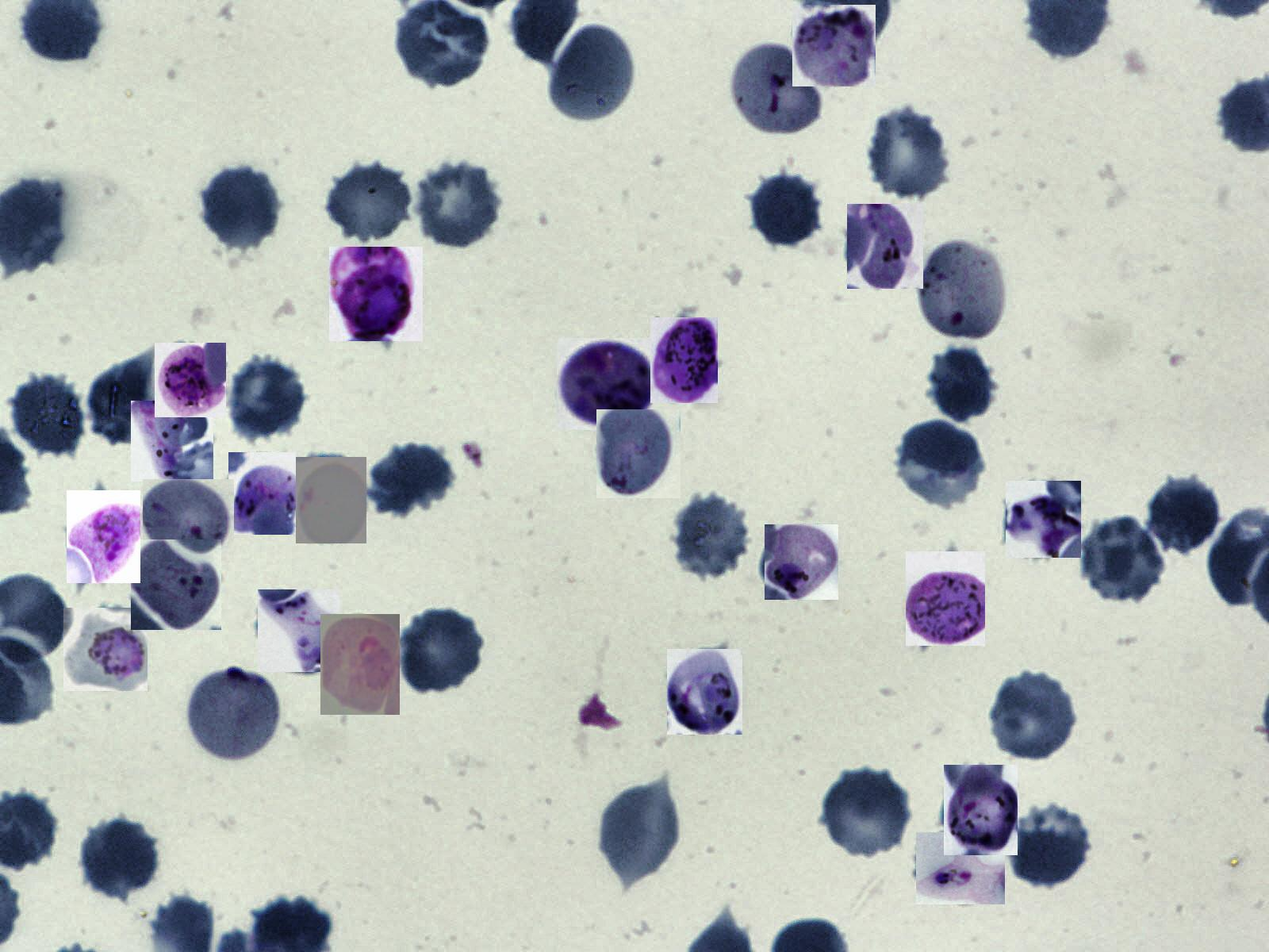Infected: (916, 236, 1006, 344), (185, 664, 284, 762), (733, 40, 826, 138), (329, 247, 423, 341), (557, 338, 653, 430), (131, 539, 221, 630), (320, 614, 400, 715), (596, 409, 681, 498), (144, 479, 235, 562), (906, 551, 985, 646), (63, 608, 148, 691), (258, 589, 340, 672), (67, 490, 140, 583), (792, 6, 876, 86), (944, 765, 1018, 855), (132, 401, 213, 482), (847, 204, 923, 289), (667, 649, 742, 735), (916, 832, 1005, 904), (297, 457, 367, 543), (650, 317, 718, 403), (1006, 481, 1081, 558), (228, 452, 296, 535), (765, 524, 838, 600), (155, 343, 226, 417)
Uninfected: (597, 778, 682, 885), (550, 23, 636, 127), (410, 154, 503, 248), (822, 766, 914, 860), (987, 670, 1079, 762), (395, 1, 490, 89), (865, 104, 951, 199), (895, 419, 985, 508), (325, 158, 412, 246), (398, 607, 486, 693), (1079, 517, 1167, 602), (669, 489, 750, 578), (86, 357, 166, 447), (201, 165, 282, 250), (226, 358, 308, 439), (10, 374, 88, 459), (1013, 802, 1090, 888), (1148, 476, 1224, 558), (370, 440, 453, 515), (82, 819, 159, 896), (753, 171, 822, 247), (929, 347, 997, 424)
